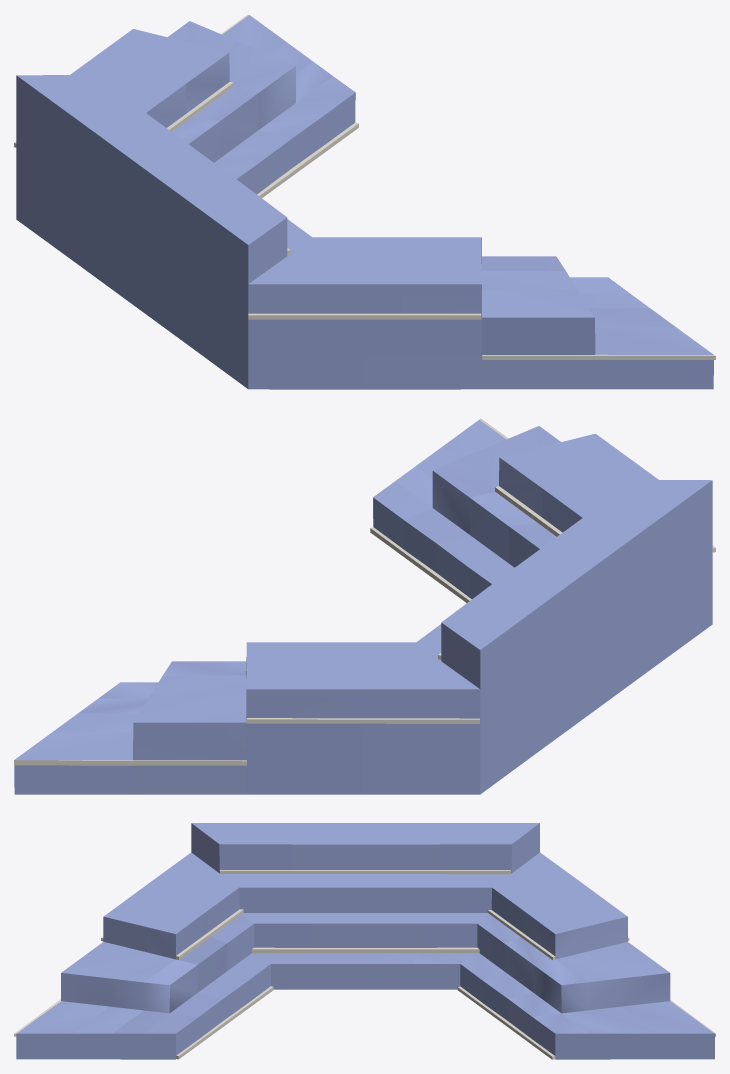
File: chair2.fbx
3 views of the same model, one above another, from view 1: azimuth 30°, elevation 25°; view 2: azimuth 150°, elevation 25°; view 3: azimuth 270°, elevation 25° (orthographic). The views are drawn at different scales.
Parts seen in each view (by area): view 1: chari1, chair2, chair3, chair4, 큐브, 큐브.001, 큐브.007; view 2: chari1, chair2, chair3, chair4, 큐브.008, 큐브.009, 큐브.004, 큐브.003; view 3: chari1, chair2, chair3, chair4, 큐브.005, 큐브.002, 큐브.007, 큐브.004, 큐브.003, 큐브.006.
Part boxes in pixels (x1,y1,x2,y2): chari1: (16, 15, 713, 389); chair2: (16, 21, 595, 355); chair3: (16, 29, 481, 317); chair4: (16, 75, 287, 283); 큐브: (248, 313, 481, 319); 큐브.001: (482, 354, 715, 359); 큐브.007: (257, 122, 358, 197); chari1: (14, 419, 712, 794); chair2: (133, 426, 712, 760); chair3: (246, 433, 712, 722); chair4: (441, 479, 712, 688); 큐브.008: (246, 718, 479, 723); 큐브.009: (14, 760, 246, 765); 큐브.004: (370, 527, 471, 602); 큐브.003: (495, 486, 562, 536); chari1: (16, 953, 714, 1059); chair2: (61, 913, 670, 1013); chair3: (103, 852, 627, 959); chair4: (191, 823, 539, 873); 큐브.005: (252, 947, 479, 953); 큐브.002: (220, 870, 510, 874); 큐브.007: (457, 986, 555, 1059); 큐브.004: (176, 986, 273, 1059); 큐브.003: (176, 909, 243, 959); 큐브.006: (487, 910, 555, 959).
Bounding box in the file's own units: 3.18 × 1.24 × 7.29.
